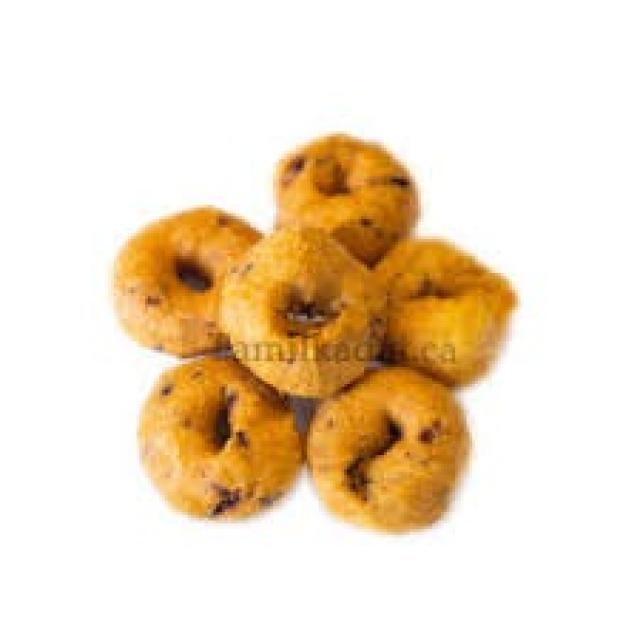medu vadai: (219, 227, 384, 395), (222, 228, 384, 396), (307, 366, 469, 530), (139, 357, 299, 519), (113, 209, 259, 352), (369, 241, 515, 383), (274, 135, 417, 261)
